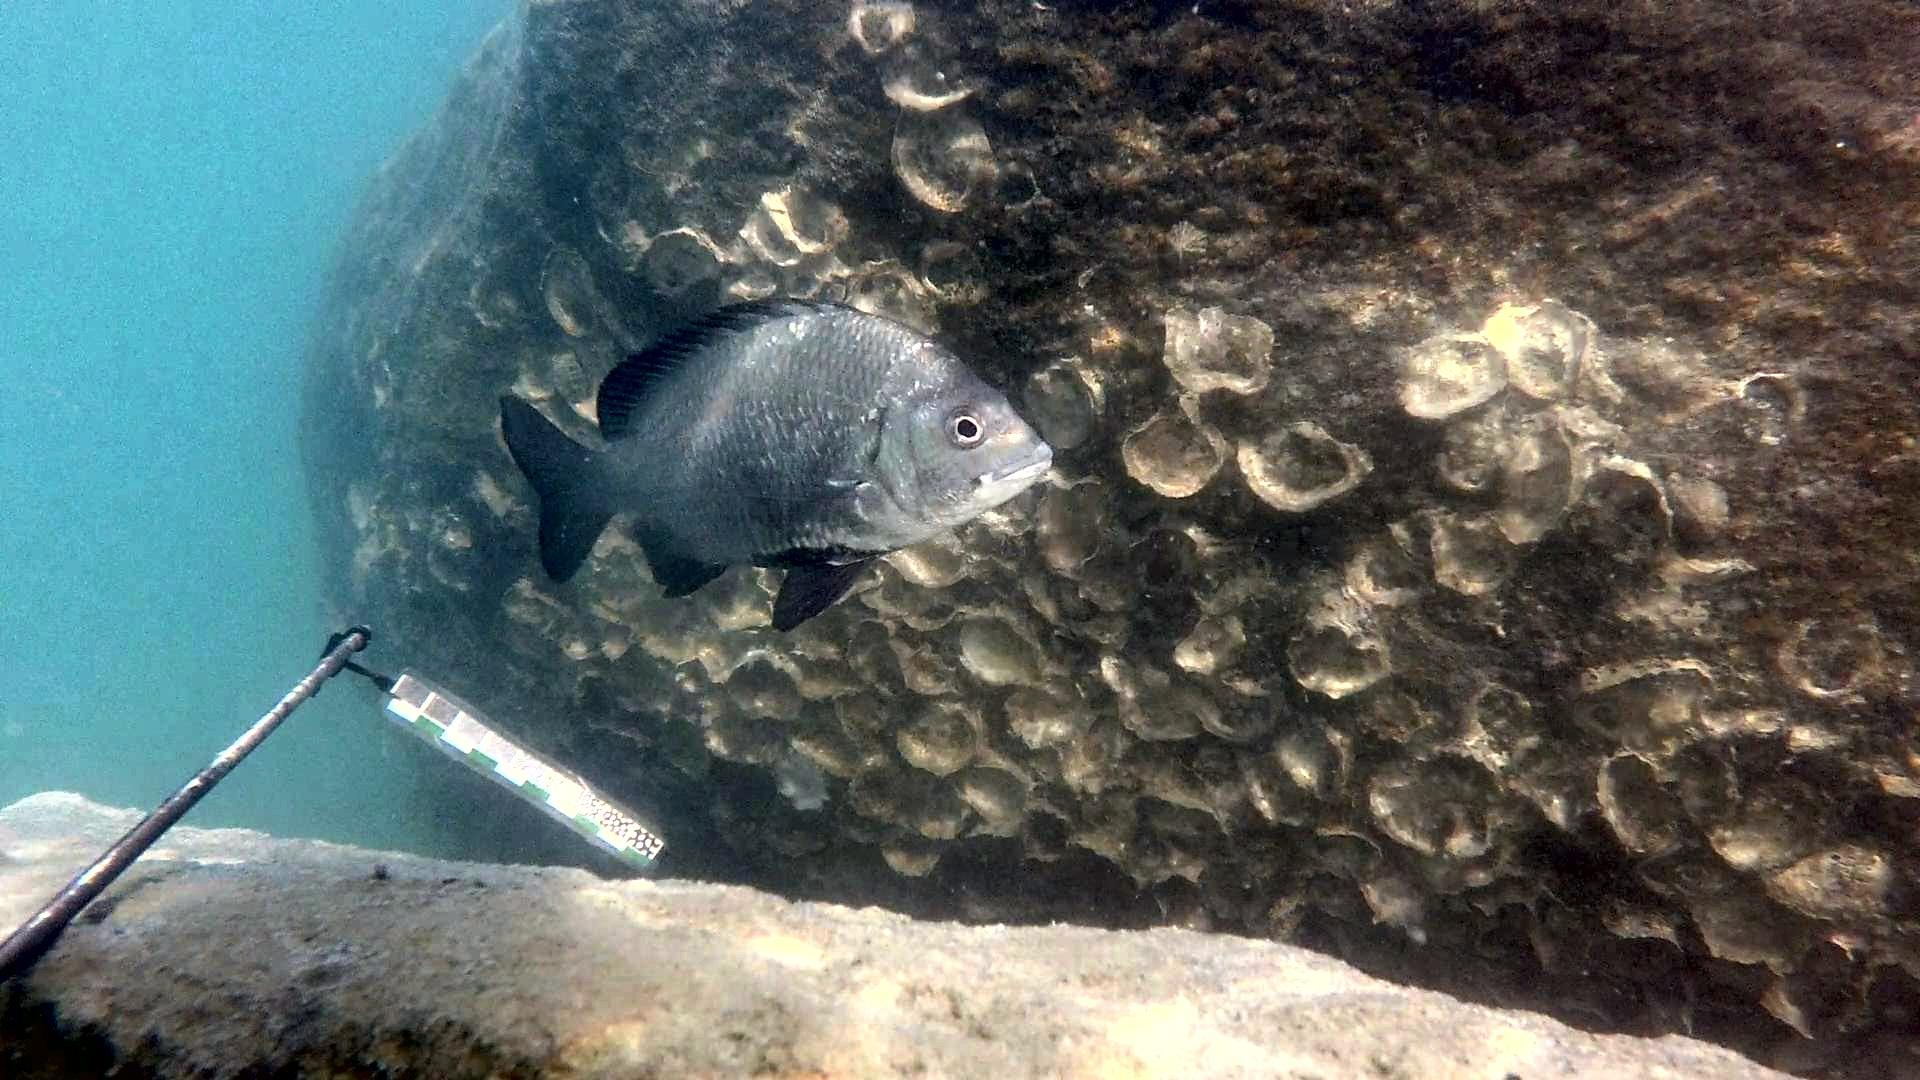acanthopagrus palmaris: (493, 288, 1061, 635)
